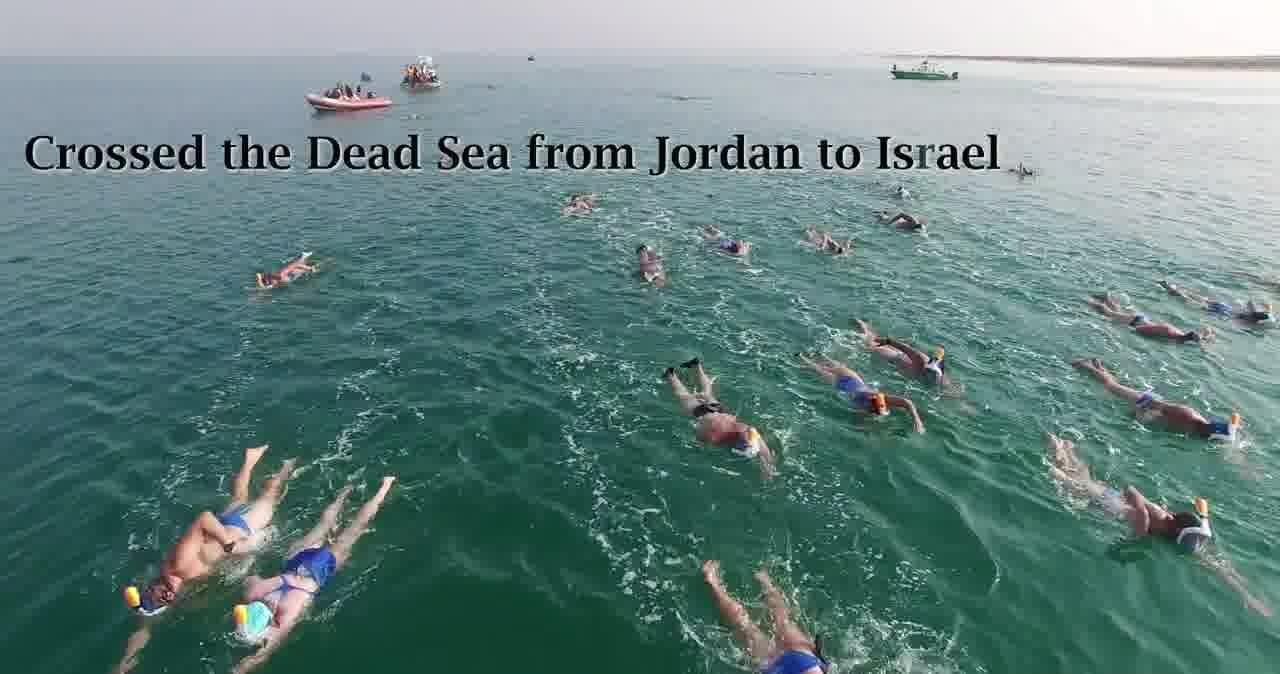swimmer: (1041, 432, 1267, 616), (209, 473, 402, 673), (110, 452, 291, 627), (698, 550, 847, 674), (1078, 352, 1241, 462), (663, 360, 766, 464), (798, 343, 907, 430), (851, 314, 944, 402), (1081, 291, 1208, 355), (1165, 278, 1251, 330), (242, 252, 324, 295), (880, 207, 930, 247), (629, 252, 671, 288)
